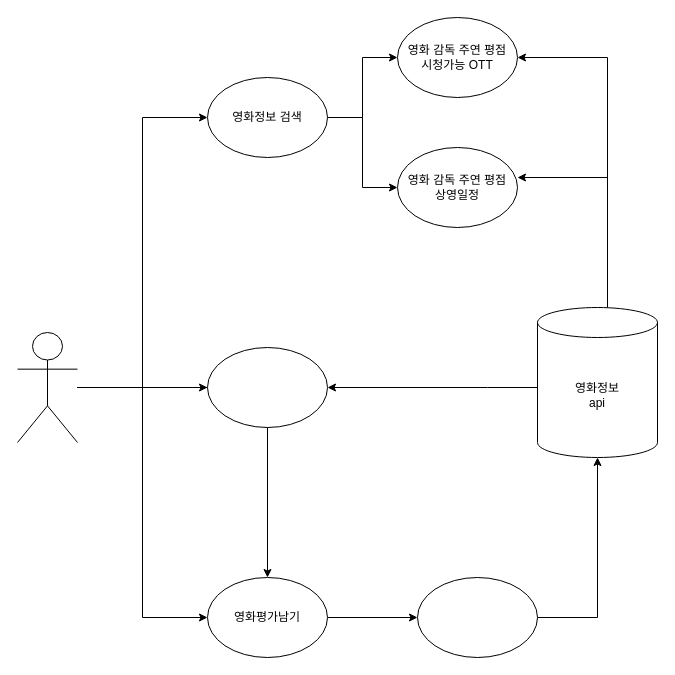
This 675x675 diagram has some shape labels left out. Here are the shapes that lost their labels. From the top down, the box of each, then its label:
(16, 332, 78, 442): 사용자
(206, 346, 328, 428): 영화정보리스트
(416, 576, 538, 658): 영수증 확인후 리뷰
